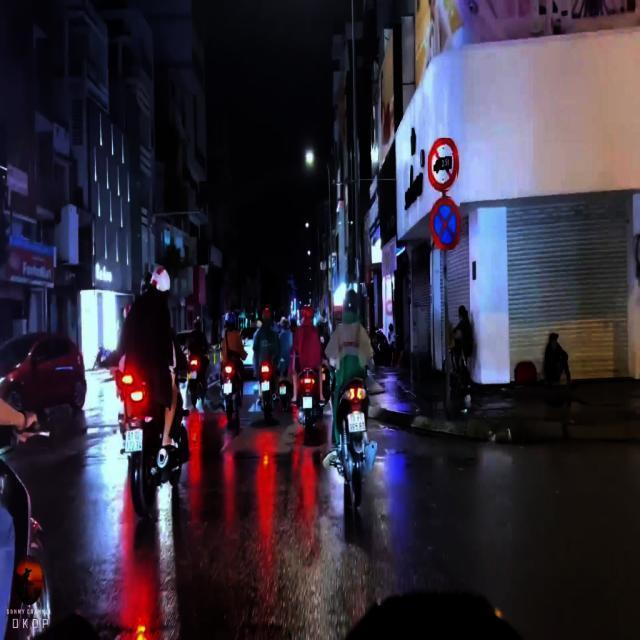106-cam-oto-tai: (428, 138, 458, 192)
130-cam-dung-va-do-xe: (431, 195, 462, 249)
